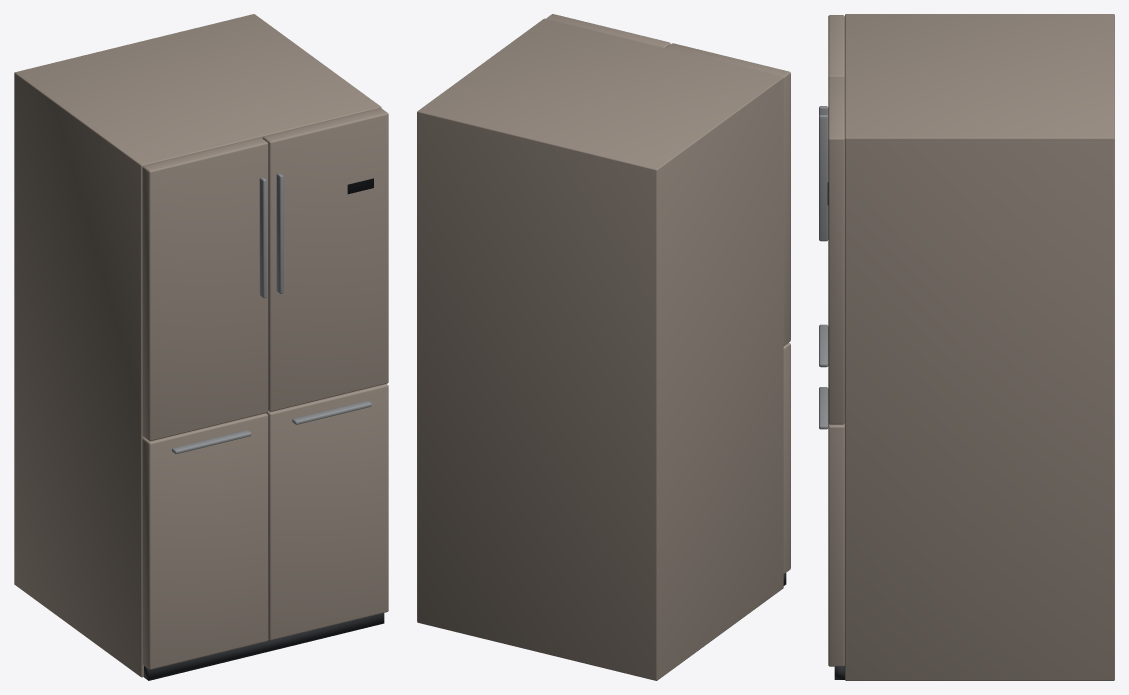
Rendered from M876GGA231.glb.
3 renders of one model, left to right at view 1: azimuth 30°, elevation 25°; view 2: azimuth 150°, elevation 25°; view 3: azimuth 270°, elevation 25°, orthographic. The views are drawn at different scales.
Parts seen in each view (by area): view 1: M876GGA231; view 2: M876GGA231; view 3: M876GGA231.
Boxes of the visible parts, x1,y1,x2,y2 form: M876GGA231: (14, 14, 388, 680); M876GGA231: (417, 14, 790, 680); M876GGA231: (819, 14, 1114, 680).
Size of the model in its own units: 0.914 by 1.86 by 0.918.
